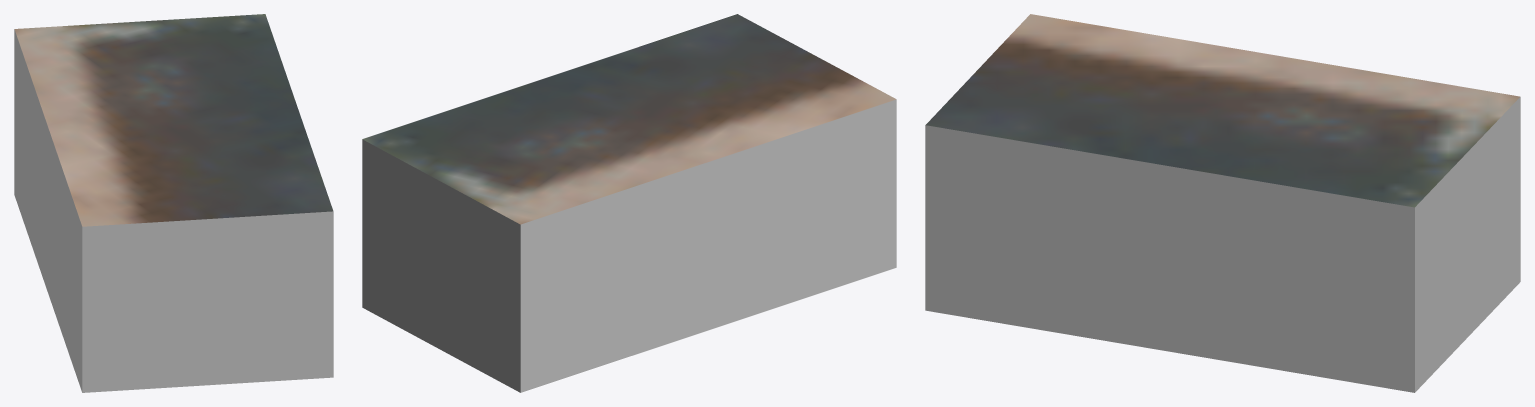
File: DEBW_0010007THZ3.gltf
The picture shows the model from 3 angles, left to right: view 1: azimuth 30°, elevation 25°; view 2: azimuth 150°, elevation 25°; view 3: azimuth 270°, elevation 25°; orthographic projection. The views are drawn at different scales.
Parts seen in each view (by area): view 1: Z_UP; view 2: Z_UP; view 3: Z_UP.
Part boxes in pixels (left/top/right/bottom): Z_UP: left=14, top=14, right=333, bottom=392; Z_UP: left=362, top=14, right=896, bottom=392; Z_UP: left=925, top=14, right=1520, bottom=392.
Bounding box in the file's own units: 6.98 × 3.12 × 9.07.
2 materials, 1 textured.
